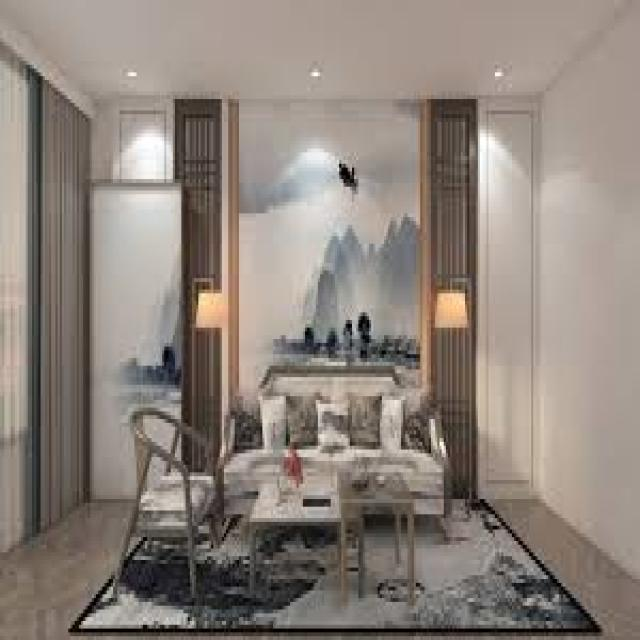Chair: (125, 404, 226, 596)
Lamp: (428, 254, 494, 536), (180, 248, 235, 377)
Sofa: (200, 362, 456, 524)
Table: (236, 453, 417, 598)
